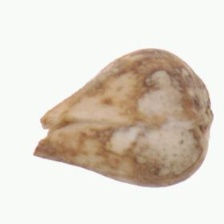L1: (197, 81, 215, 138), (32, 110, 52, 158)
L2: (33, 47, 213, 190)
